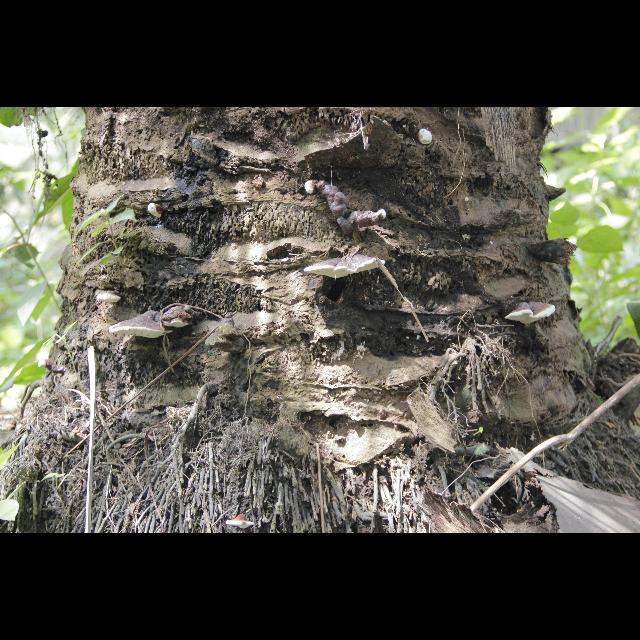ganoderma: (320, 181, 378, 238), (305, 254, 387, 281), (110, 311, 175, 340), (505, 302, 557, 326), (162, 306, 204, 330), (97, 292, 127, 305)
primordium: (149, 203, 166, 219), (419, 130, 434, 147), (306, 179, 321, 195), (39, 360, 52, 371), (380, 210, 389, 222), (466, 198, 471, 203)
